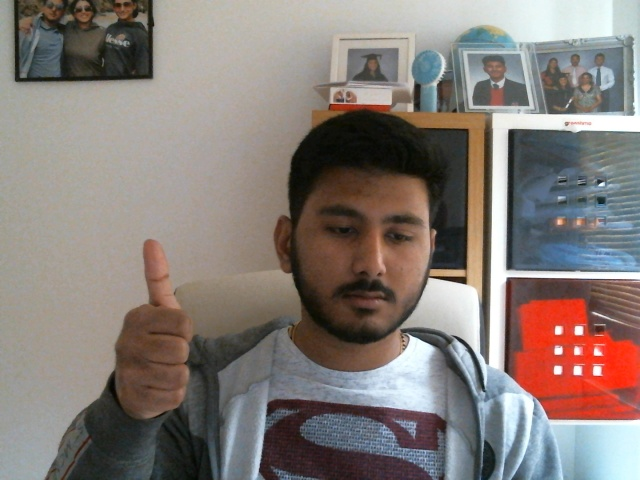good: (114, 238, 188, 418)
